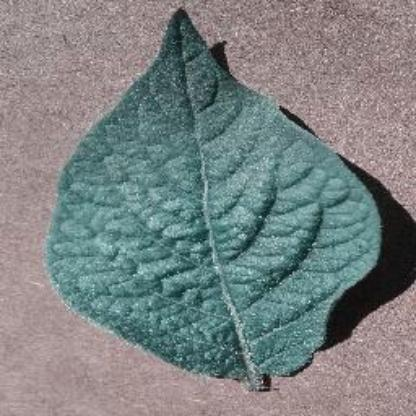Healthy-plant: (27, 6, 399, 384)
